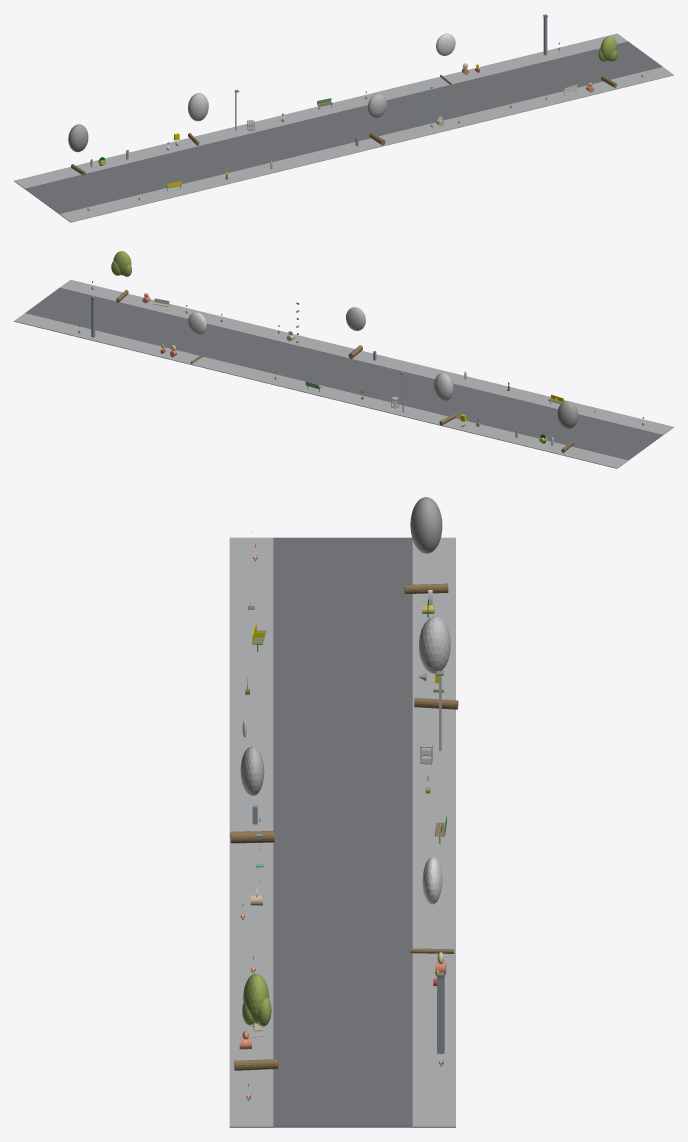
The picture shows the model from 3 angles, top to bottom: view 1: azimuth 30°, elevation 25°; view 2: azimuth 150°, elevation 25°; view 3: azimuth 270°, elevation 25°; orthographic projection. The views are drawn at different scales.
Parts seen in each view (by area): view 1: road_slab, sidewalk_left, sidewalk_right, inst_0013, inst_0012, inst_0016, inst_0014, inst_0015; view 2: road_slab, sidewalk_right, sidewalk_left, inst_0012, inst_0013, inst_0016, inst_0014, inst_0015; view 3: road_slab, sidewalk_left, sidewalk_right, inst_0013, inst_0012, inst_0016, inst_0014, inst_0015.
Part boxes in pixels (x1,y1,x2,y2): road_slab: (25, 41, 662, 214); sidewalk_left: (59, 67, 673, 222); sidewalk_right: (14, 33, 627, 188); inst_0013: (188, 93, 208, 145); inst_0012: (68, 124, 88, 175); inst_0016: (598, 36, 617, 87); inst_0014: (367, 94, 386, 145); inst_0015: (436, 33, 455, 84); road_slab: (25, 287, 662, 460); sidewalk_right: (14, 313, 628, 468); sidewalk_left: (60, 279, 673, 435); inst_0012: (557, 401, 578, 452); inst_0013: (433, 373, 455, 425); inst_0016: (111, 251, 131, 302); inst_0014: (346, 307, 365, 358); inst_0015: (188, 312, 206, 363); road_slab: (273, 537, 412, 1127); sidewalk_left: (229, 537, 273, 1127); sidewalk_right: (412, 537, 455, 1127); inst_0013: (414, 616, 458, 709); inst_0012: (404, 497, 448, 593); inst_0016: (234, 973, 278, 1070); inst_0014: (230, 746, 274, 843); inst_0015: (410, 857, 454, 953).
Bounding box in the file's own units: 80 × 6.08 × 13.12.
